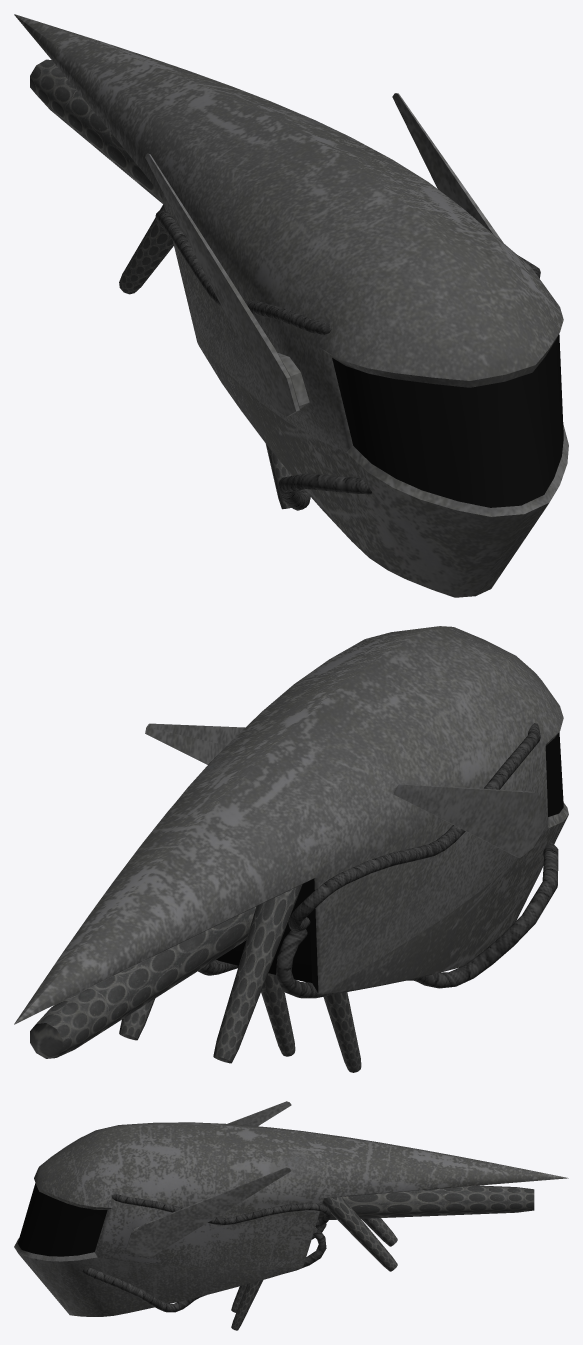
The model's file is drone_enemy.fbx.
3 renders of one model, top to bottom at view 1: azimuth 30°, elevation 25°; view 2: azimuth 150°, elevation 25°; view 3: azimuth 270°, elevation 25°, orthographic. The views are drawn at different scales.
Visible parts, largest first — view 1: polySurface5; view 2: polySurface5; view 3: polySurface5.
Part boxes in pixels (<box>): polySurface5: <box>14,14,568,597</box>; polySurface5: <box>14,626,568,1072</box>; polySurface5: <box>14,1101,568,1330</box>.
Size of the model in its own units: 94.21 by 123 by 316.
